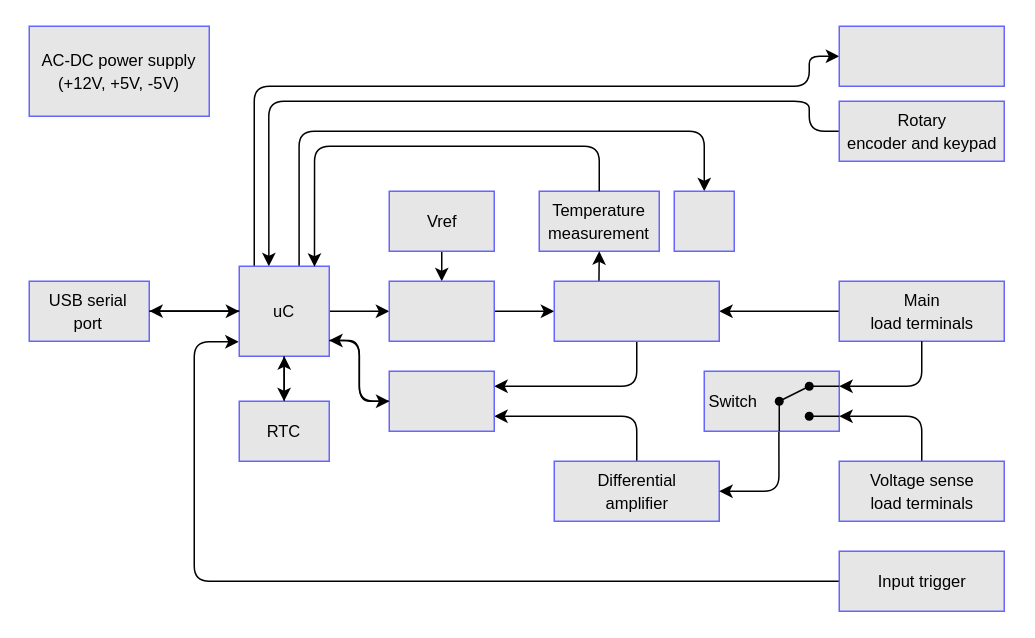
Image size: 1035x638. Some labels were removed from this diagram. Each missing label, with the centre of its shape:
4x20 LCD: (921,55)
ADC: (441,400)
CC sink: (636,310)
DAC: (441,310)
Fan: (703,220)
